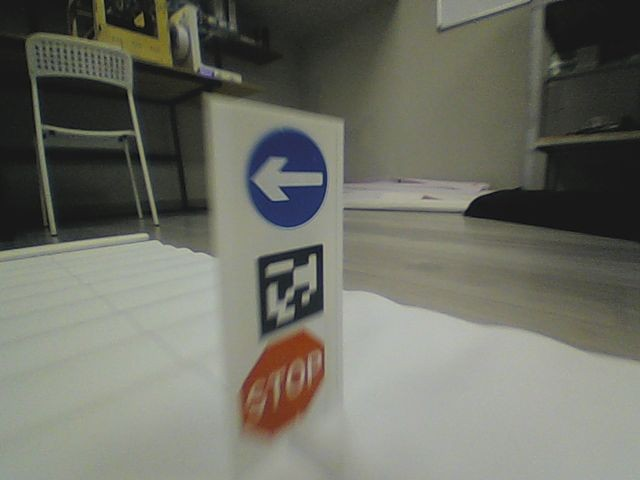Stop: (240, 332, 328, 439)
